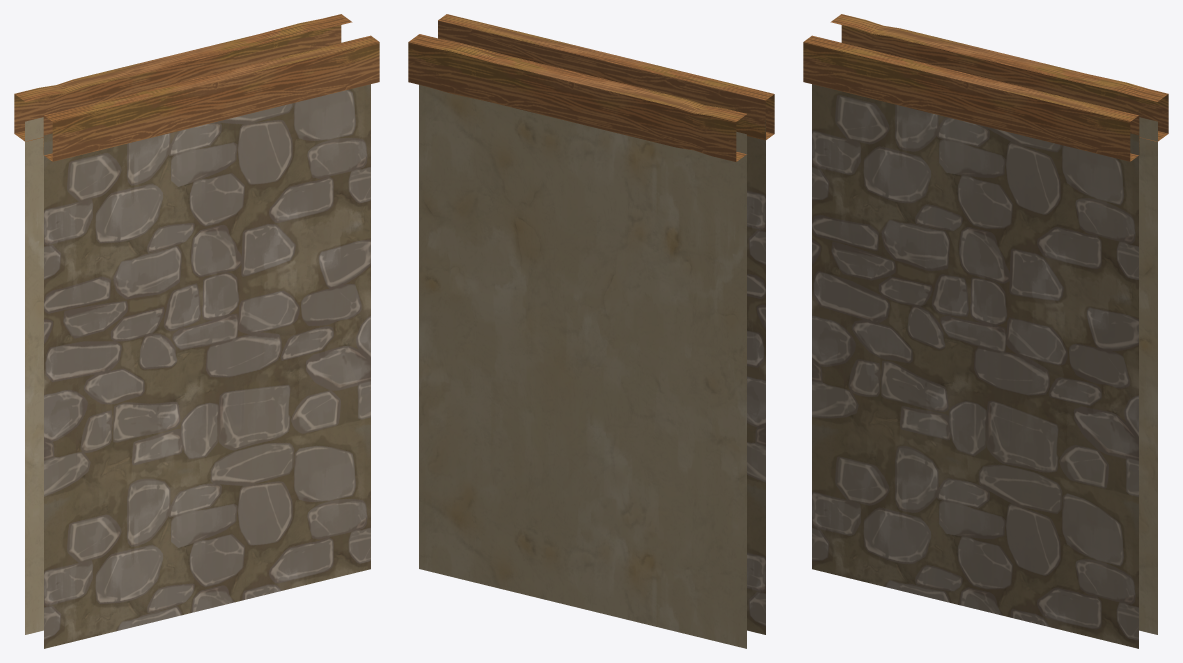
The model's file is Wall_UnevenBrick_Straight.gltf.
3 renders of one model, left to right at view 1: azimuth 30°, elevation 25°; view 2: azimuth 150°, elevation 25°; view 3: azimuth 330°, elevation 25°, orthographic.
Parts seen in each view (by area): view 1: Wall_UnevenBrick_Straight; view 2: Wall_UnevenBrick_Straight; view 3: Wall_UnevenBrick_Straight.
Part boxes in pixels (left/top/right/bottom): Wall_UnevenBrick_Straight: left=14, top=14, right=379, bottom=648; Wall_UnevenBrick_Straight: left=408, top=14, right=774, bottom=648; Wall_UnevenBrick_Straight: left=803, top=14, right=1168, bottom=648.
Size of the model in its own units: 2 by 3.12 by 0.4065.
Materials: 3 (3 with a texture image).
